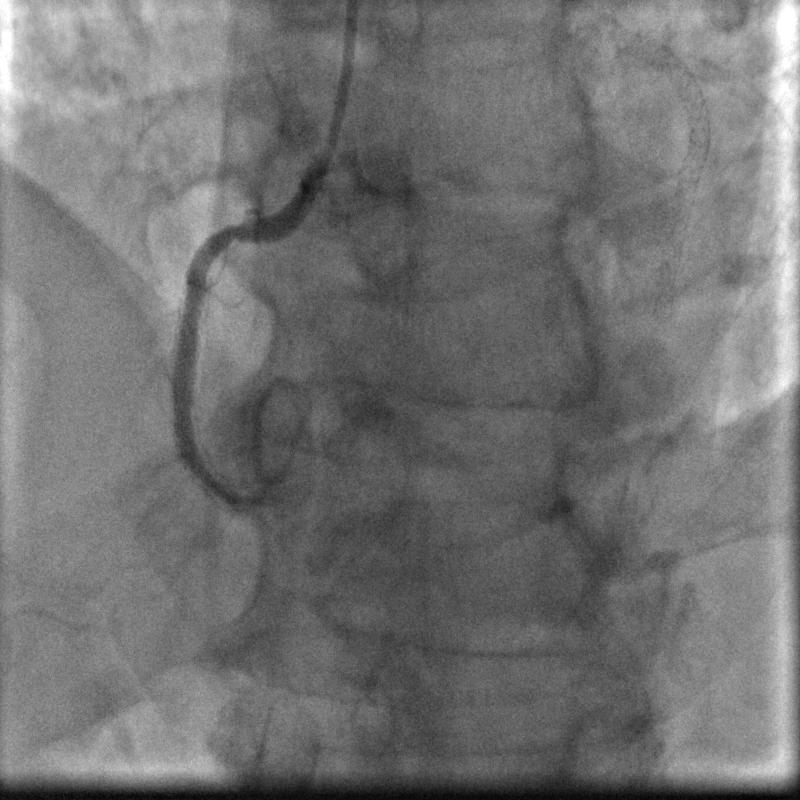Stenosis: (220, 206, 251, 266)
